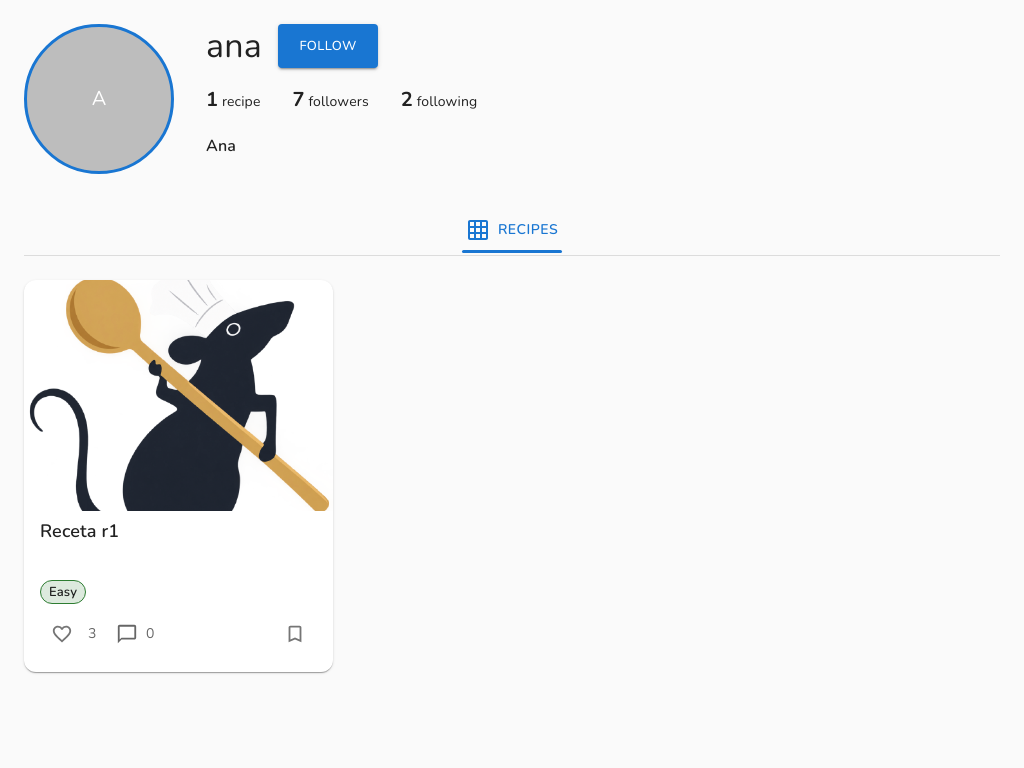
the profile page › a heart on a profile card › fills in before the server answers
Click the button named "Like" at (62, 634), box [40, 612, 84, 656]
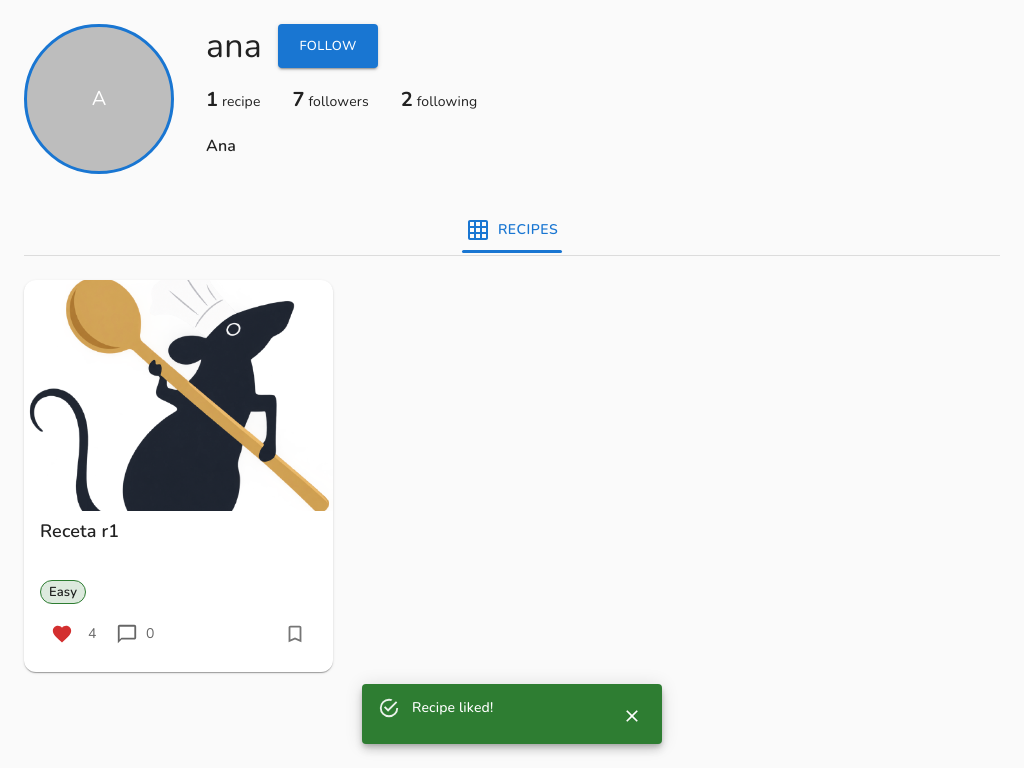
Expected: the button named "Unlike" is shown, [40, 612, 84, 656]
Expected: the text "4" is shown, [88, 624, 97, 643]
